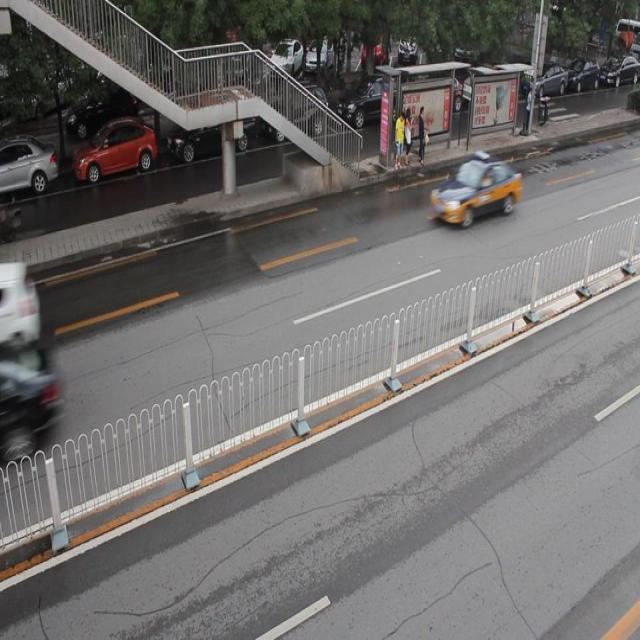car: (430, 154, 520, 224), (168, 90, 257, 157), (74, 119, 157, 184), (336, 72, 405, 130), (265, 85, 329, 144), (1, 137, 58, 197)
